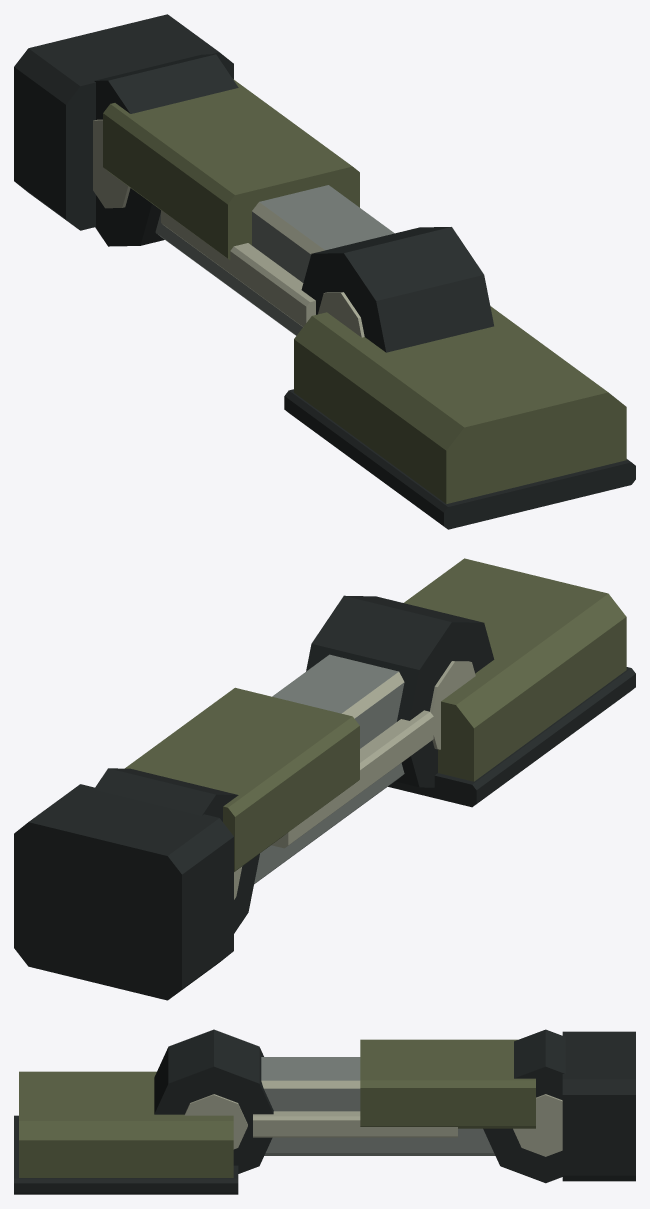
Rendered from ProstheticLeg.gltf.
3 renders of one model, top to bottom at view 1: azimuth 30°, elevation 25°; view 2: azimuth 150°, elevation 25°; view 3: azimuth 270°, elevation 25°, orthographic. The views are drawn at different scales.
Visible parts, largest first — view 1: ProstheticLeg; view 2: ProstheticLeg; view 3: ProstheticLeg.
Part boxes in pixels (left/top/right/bottom): ProstheticLeg: left=14, top=14, right=635, bottom=529; ProstheticLeg: left=14, top=558, right=635, bottom=1000; ProstheticLeg: left=14, top=1029, right=635, bottom=1194.
Bounding box in the file's own units: 0.16 × 0.132 × 0.6375.
